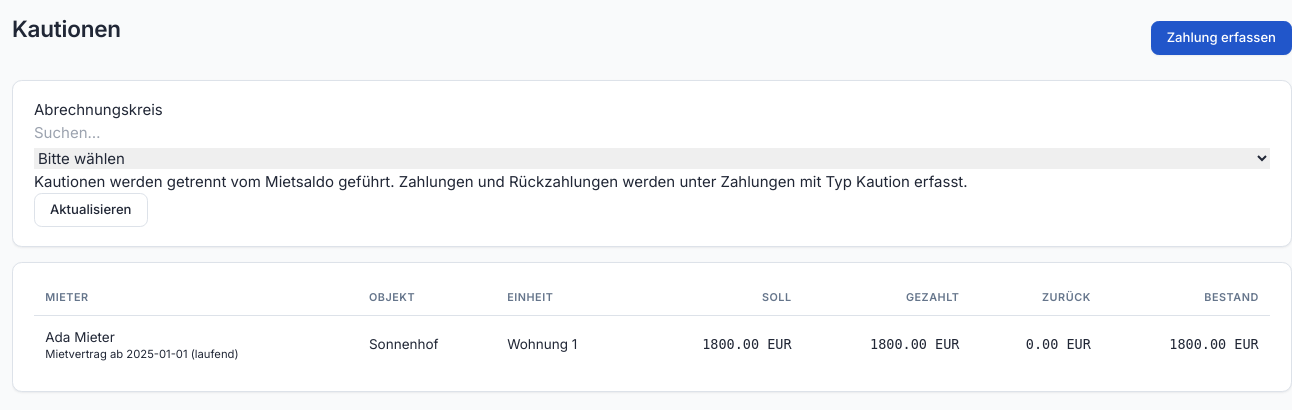
it: refreshes after a 300 refund without recomputing paid or expected
Expected: the text "Ada Mieter" is shown, 45,329 -> 115,345
Click the button "Aktualisieren".
click(91, 210)  # box 34,193 -> 148,227
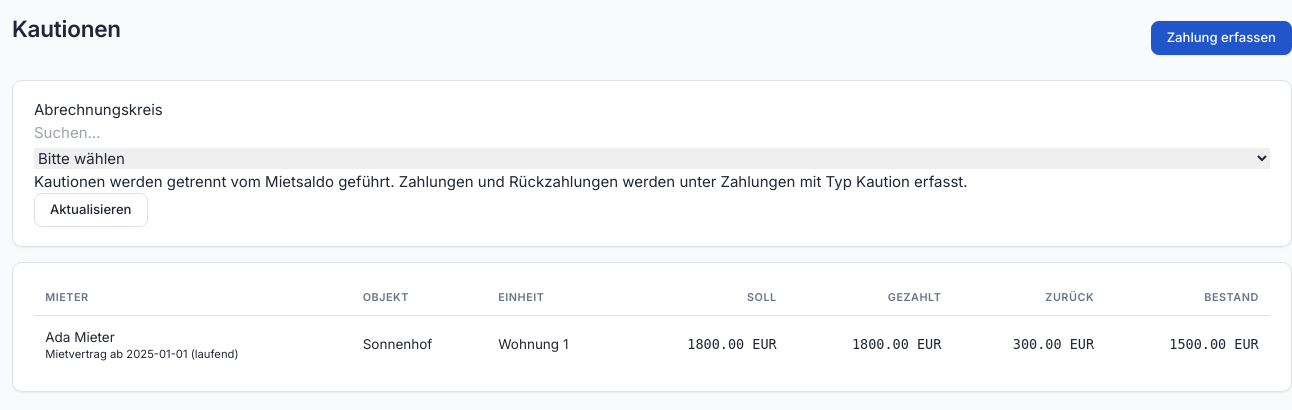
Expected: the text "1800.00 EUR" is shown 2 times, 623,316 -> 788,373; 788,316 -> 953,373
Expected: the text "1500.00 EUR" is shown, 1105,316 -> 1270,373
Expected: the text "300.00 EUR" is shown, 953,316 -> 1105,373
